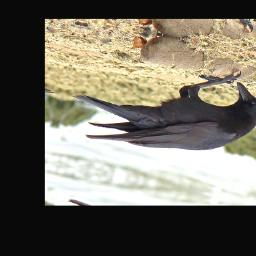Crow: (62, 39, 256, 170)
